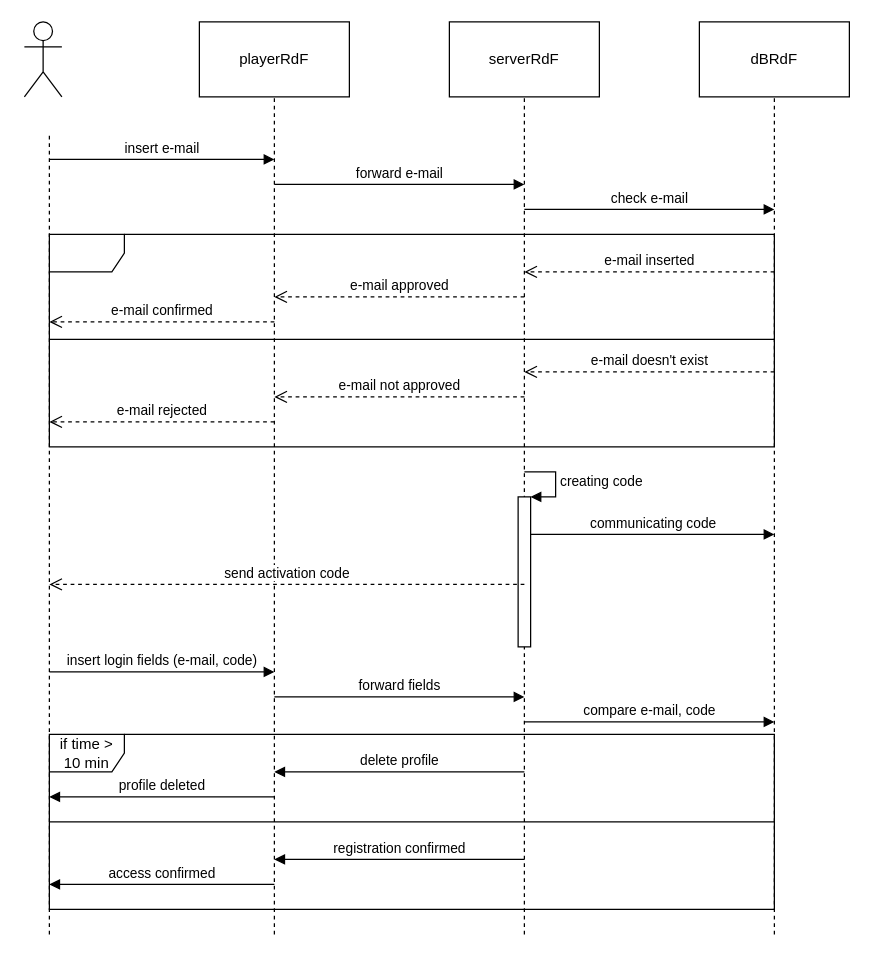
Some shapes in this 871 by 958 pixel diagram are drawn without their labels. The centre of each missing label's shape, as x and y in pixels:
if e-mail doesn't exist: the point at 411,340
Player: the point at 42,59
